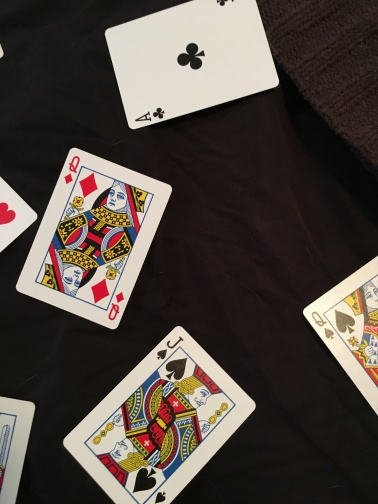ace: (103, 1, 280, 136)
jack: (61, 324, 260, 504)
queen: (15, 145, 173, 333), (302, 255, 378, 399)
